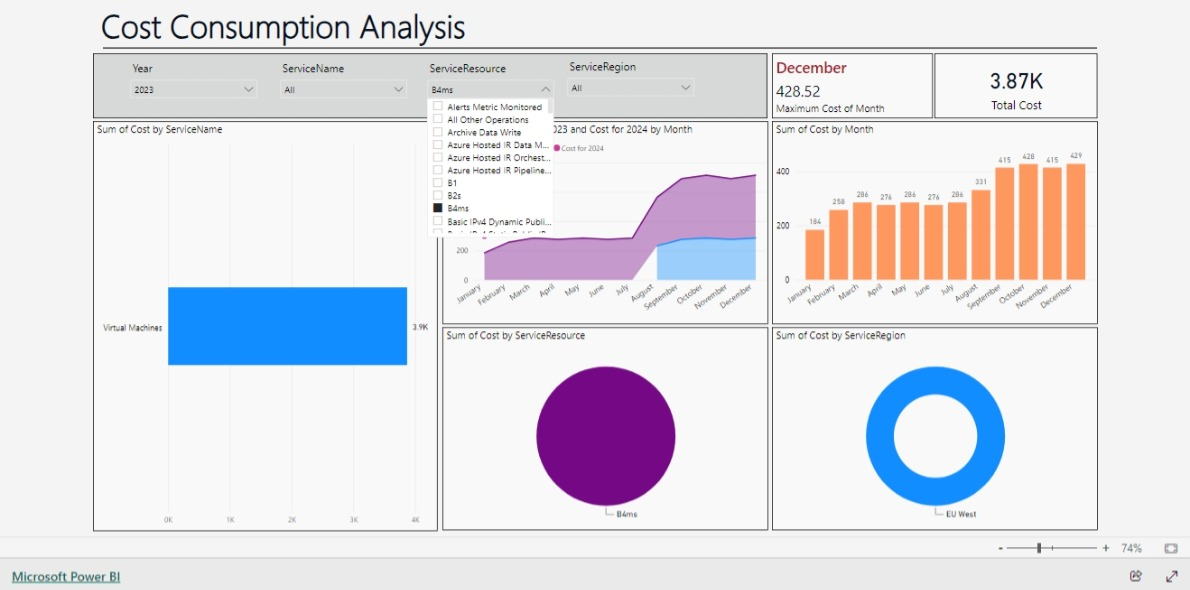

The page's visual inventory and layout, read from the dashboard file:
{"tool":"powerbi","page":{"name":"Page 1","canvas":[1503,800],"ordinal":0},"visuals":[{"type":"shape","box":[3.2,79,1006,97],"z":0},{"type":"columnChart","title":"Total Cost by Month","fields":{"Category":["AzureUsage_Workxflow_10-01-2024.Date.Variation.Date Hierarchy.Month"],"Y":["Sum(AzureUsage_Workxflow_10-01-2024.Cost)"]},"box":[1015,180,486,303.4],"z":1000},{"type":"donutChart","title":"Total Cost by ServiceRegion","fields":{"Category":["AzureUsage_Workxflow_10-01-2024.ServiceRegion"],"Y":["Sum(AzureUsage_Workxflow_10-01-2024.Cost)"]},"box":[1015,488,486,303],"z":2000},{"type":"pieChart","title":"Total Cost by ServiceResource","fields":{"Category":["AzureUsage_Workxflow_10-01-2024.ServiceResource"],"Y":["Sum(AzureUsage_Workxflow_10-01-2024.Cost)"]},"box":[523.3,488,486,303],"z":3000},{"type":"clusteredBarChart","title":"total cost by ServiceName","fields":{"Category":["AzureUsage_Workxflow_10-01-2024.ServiceName"],"Y":["Sum(AzureUsage_Workxflow_10-01-2024.Cost)"]},"box":[3,180,514,611],"z":4000},{"type":"card","fields":{"Values":["Sum(AzureUsage_Workxflow_10-01-2024.Cost)"]},"box":[1258.3,79,242.7,97],"z":5000},{"type":"slicer","fields":{"Values":["AzureUsage_Workxflow_10-01-2024.ServiceName"]},"box":[417,85.7,193.9,87.3],"z":6000},{"type":"slicer","fields":{"Values":["AzureUsage_Workxflow_10-01-2024.ServiceResource"]},"box":[610.9,85.7,192.3,87.3],"z":7000},{"type":"slicer","fields":{"Values":["AzureUsage_Workxflow_10-01-2024.ServiceRegion"]},"box":[803.2,85.7,193.9,87.3],"z":8000},{"type":"slicer","fields":{"Values":["AzureUsage_Workxflow_10-01-2024.Date.Variation.Date Hierarchy.Year"]},"box":[17.6,86.2,193,86.2],"z":9000},{"type":"multiRowCard","fields":{"Values":["AzureUsage_Workxflow_10-01-2024.Date.Variation.Date Hierarchy.Month","Sum(AzureUsage_Workxflow_10-01-2024.Cost)"]},"box":[1015.6,79.8,239.5,97.4],"z":10000},{"type":"stackedAreaChart","title":"Cost Comparison by Year","fields":{"Category":["AzureUsage_Workxflow_10-01-2024.Date.Variation.Date Hierarchy.Month"],"Y":["AzureUsage_Workxflow_10-01-2024.Cost for 2022","AzureUsage_Workxflow_10-01-2024.Cost for 2023","AzureUsage_Workxflow_10-01-2024.Cost for 2024"]},"box":[523.3,180,486,303.3],"z":11000},{"type":"shape","box":[17.6,19,1483.4,105.4],"z":12000},{"type":"textbox","box":[9.6,0,811.2,83],"z":13000},{"type":"slicer","fields":{"Values":["AzureUsage_Workxflow_10-01-2024.Date.Variation.Date Hierarchy.Month"]},"box":[221.4,85.7,193.9,87.3],"z":13001}]}

Visuals, with their boxes on the page's 1503x800 design canvas (x1, y1, x2, y2). These are canvas units, not pixel positions in the 1190x590 screenshot, which may show the page scaled, cropped or inside an application window:
shape: (3, 79, 1009, 176)
"Total Cost by Month" columnChart: (1015, 180, 1501, 483)
"Total Cost by ServiceRegion" donutChart: (1015, 488, 1501, 791)
"Total Cost by ServiceResource" pieChart: (523, 488, 1009, 791)
"total cost by ServiceName" clusteredBarChart: (3, 180, 517, 791)
card - Sum(AzureUsage_Workxflow_10-01-2024.Cost): (1258, 79, 1501, 176)
slicer - AzureUsage_Workxflow_10-01-2024.ServiceName: (417, 86, 611, 173)
slicer - AzureUsage_Workxflow_10-01-2024.ServiceResource: (611, 86, 803, 173)
slicer - AzureUsage_Workxflow_10-01-2024.ServiceRegion: (803, 86, 997, 173)
slicer - AzureUsage_Workxflow_10-01-2024.Date.Variation.Date Hierarchy.Year: (18, 86, 211, 172)
multiRowCard - AzureUsage_Workxflow_10-01-2024.Date.Variation.Date Hierarchy.Month x Sum(AzureUsage_Workxflow_10-01-2024.Cost): (1016, 80, 1255, 177)
"Cost Comparison by Year" stackedAreaChart: (523, 180, 1009, 483)
shape: (18, 19, 1501, 124)
textbox: (10, 0, 821, 83)
slicer - AzureUsage_Workxflow_10-01-2024.Date.Variation.Date Hierarchy.Month: (221, 86, 415, 173)
